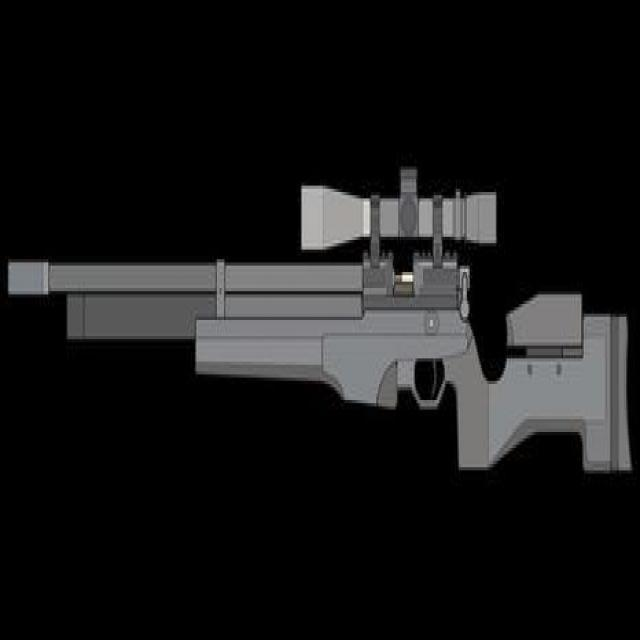weapon: (6, 160, 634, 480)
